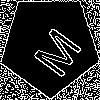M: (25, 20, 83, 80)
